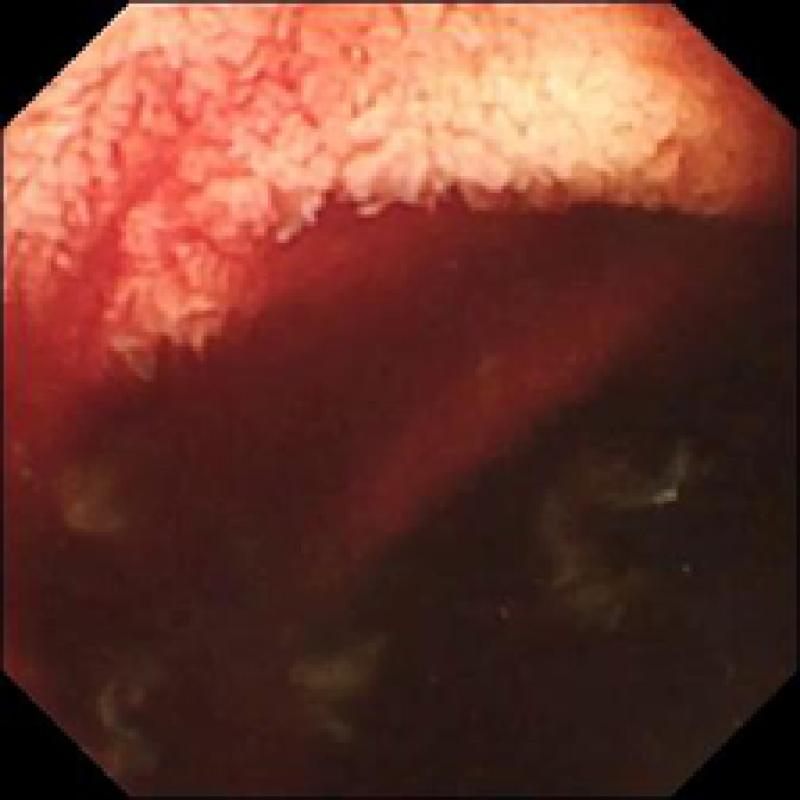bleeding: (0, 125, 654, 639)
